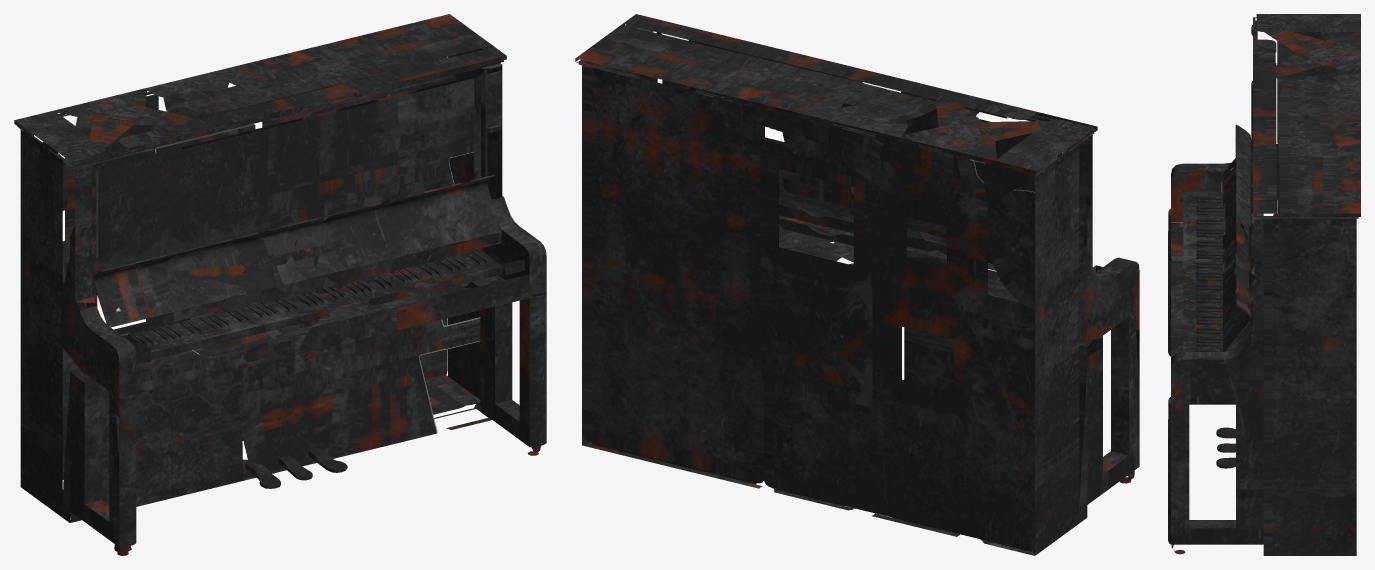
Rendered from piano.fbx.
The picture shows the model from 3 angles, left to right: view 1: azimuth 30°, elevation 25°; view 2: azimuth 150°, elevation 25°; view 3: azimuth 270°, elevation 25°; orthographic projection. The views are drawn at different scales.
Parts seen in each view (by area): view 1: Object_2; view 2: Object_2; view 3: Object_2.
Part boxes in pixels (box(x1,y1,x2,y2)): Object_2: box(14, 14, 546, 555); Object_2: box(575, 14, 1139, 555); Object_2: box(1168, 14, 1360, 555).
Bounding box in the file's own units: 6017 × 4832 × 2453.
